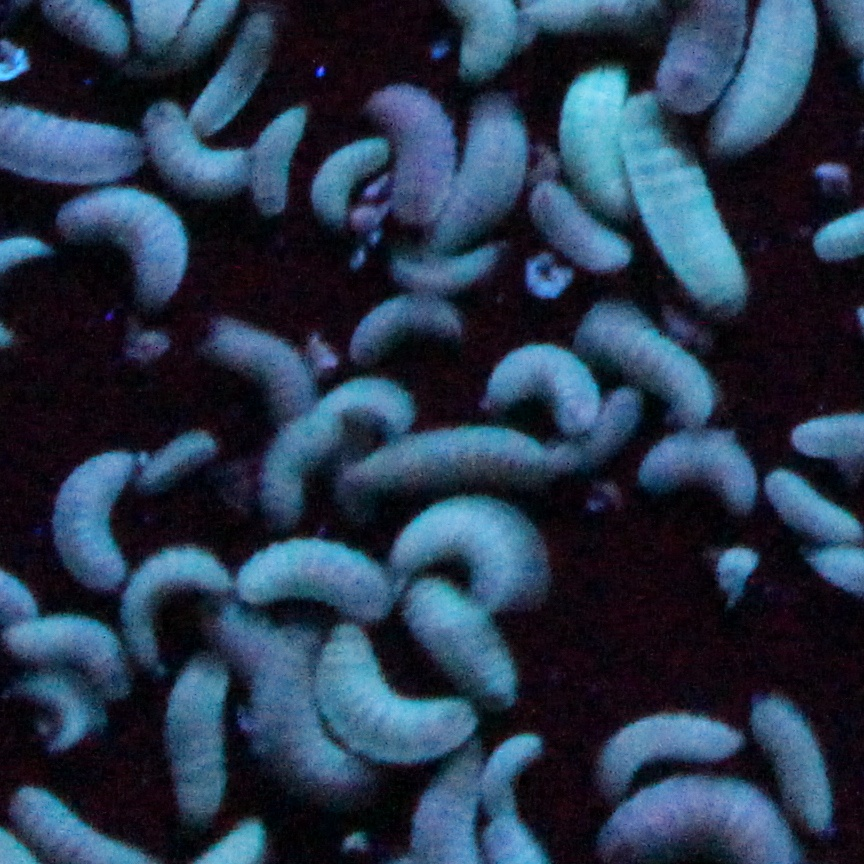larve: (611, 83, 757, 314), (311, 616, 480, 762), (375, 472, 542, 605), (570, 296, 723, 422), (188, 304, 325, 441), (391, 565, 522, 703), (50, 186, 196, 306), (358, 77, 460, 245), (224, 524, 395, 622), (433, 95, 524, 277), (126, 519, 232, 673), (570, 703, 752, 790), (749, 681, 850, 834), (480, 326, 609, 442), (44, 444, 142, 594), (155, 647, 237, 825), (627, 417, 773, 516), (524, 175, 639, 275), (342, 282, 473, 363), (304, 130, 390, 235), (317, 367, 427, 444), (250, 88, 301, 226), (131, 416, 214, 494)
